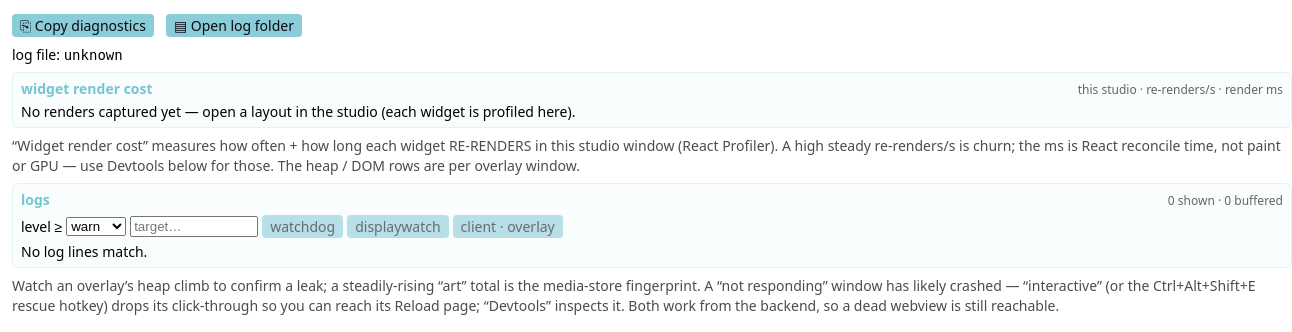
Test: DiagnosticsPanel logs pane › reports a failed copy and tolerates a missing monitor bridge
Click the button "⎘ Copy diagnostics" at (83, 26), box x1=12 y1=14 x2=154 y2=37
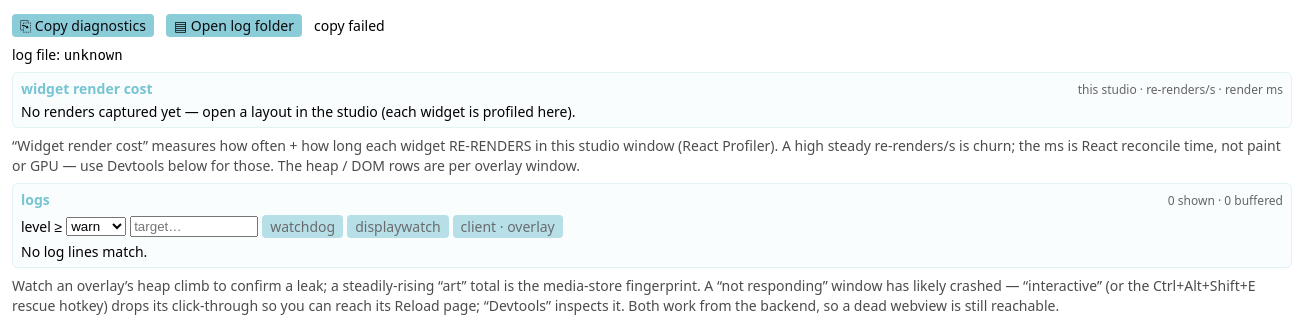
Now the text "copy failed" is shown, box x1=314 y1=16 x2=385 y2=35
